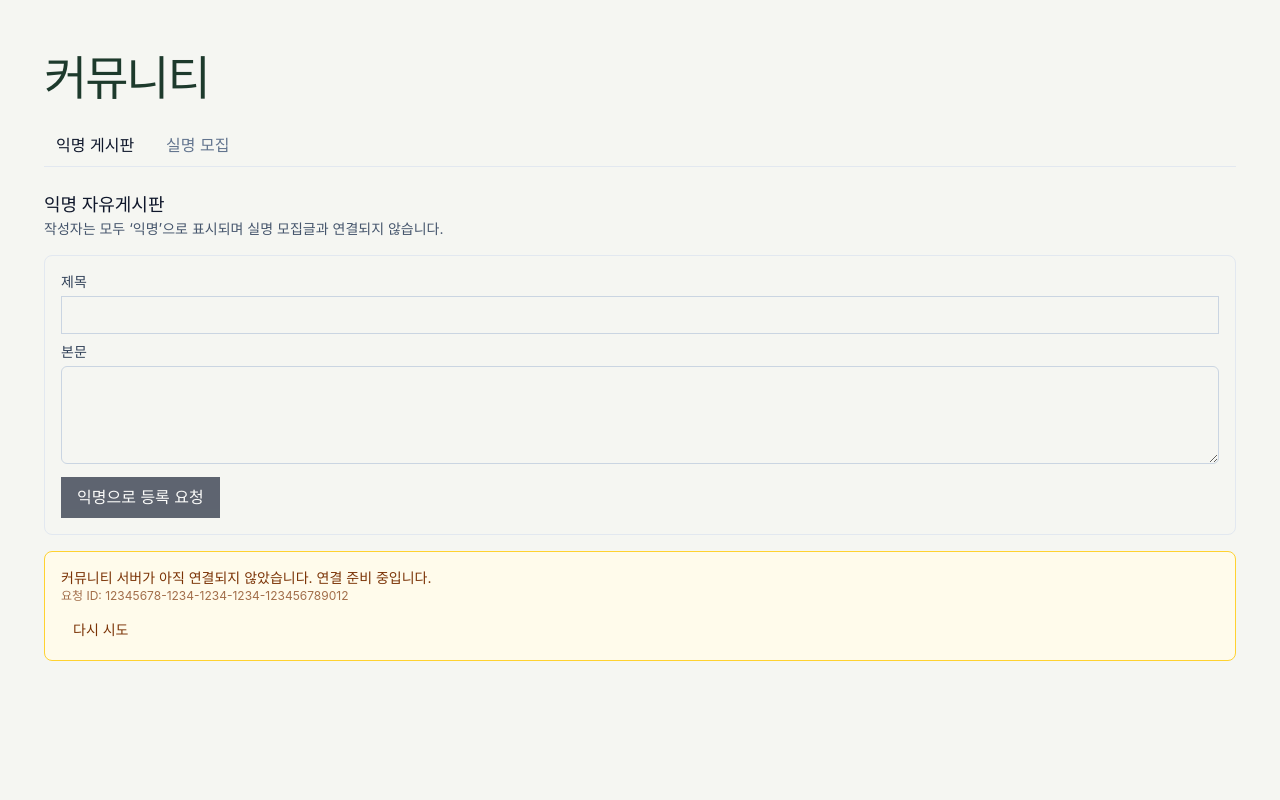
Scenario: community list states › shows connection pending on 503 and recovers on retry
This screenshot has width=1280, height=800.
Expected: the text "커뮤니티 서버가 아직 연결되지 않았습니다. 연결 준비 중입니다." is shown, x1=61 y1=569 x2=432 y2=586
Expected: the button "익명으로 등록 요청" is disabled, x1=61 y1=477 x2=220 y2=518
Click the button "다시 시도".
click(101, 630)  # box x1=61 y1=616 x2=140 y2=644
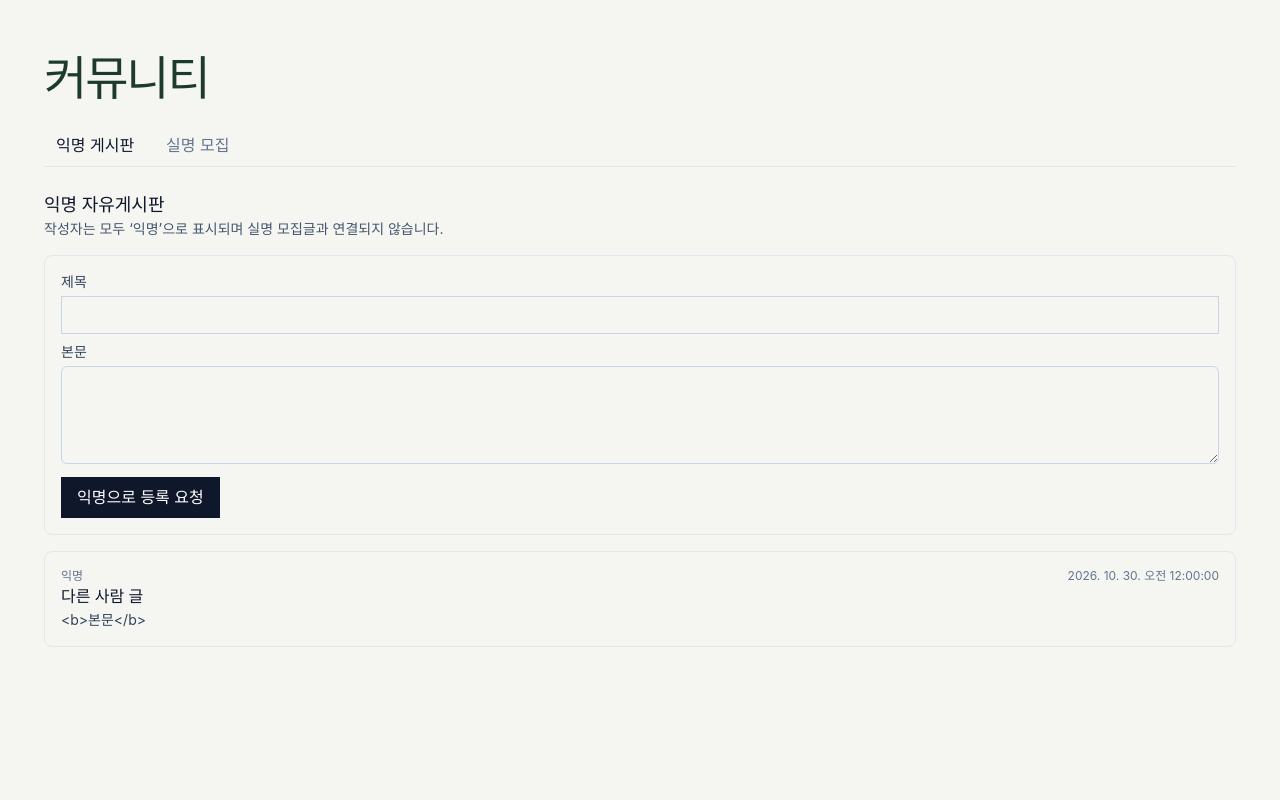
Expected: the heading "다른 사람 글" is shown, x1=61 y1=586 x2=143 y2=606
Expected: the text "<b>본문</b>" is shown, x1=61 y1=611 x2=146 y2=628
